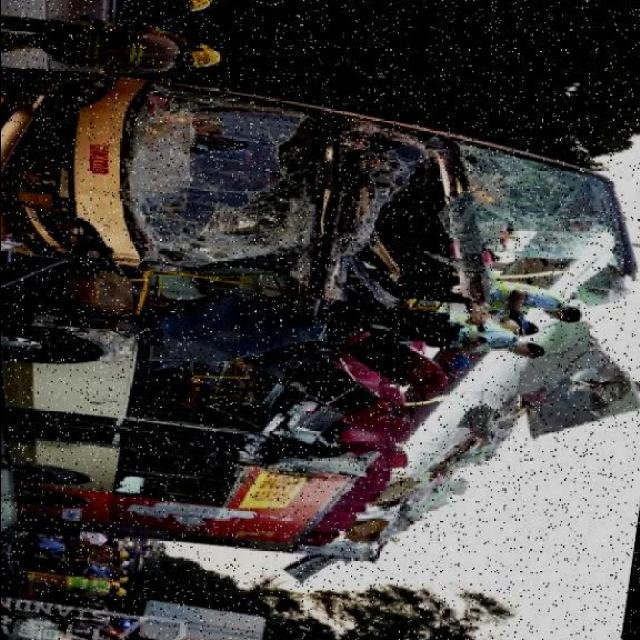accident: (0, 51, 636, 607)
